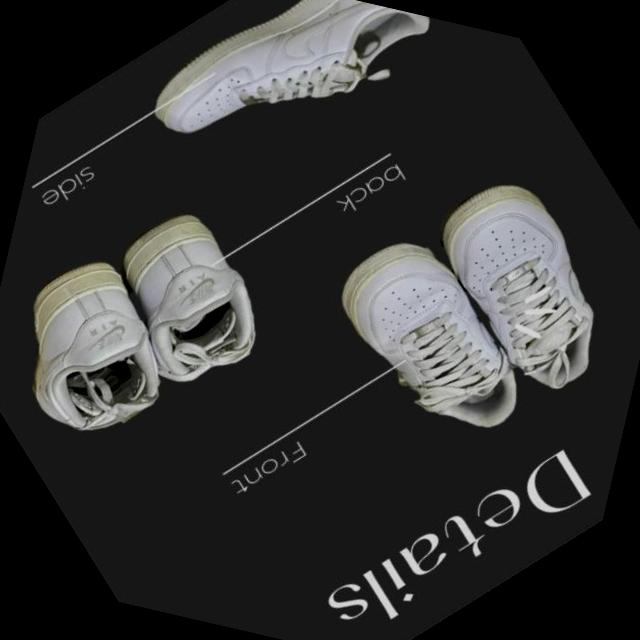nike_original_airforce: (292, 196, 574, 477), (124, 0, 449, 230), (385, 144, 640, 425), (65, 186, 301, 422), (0, 228, 215, 483)
